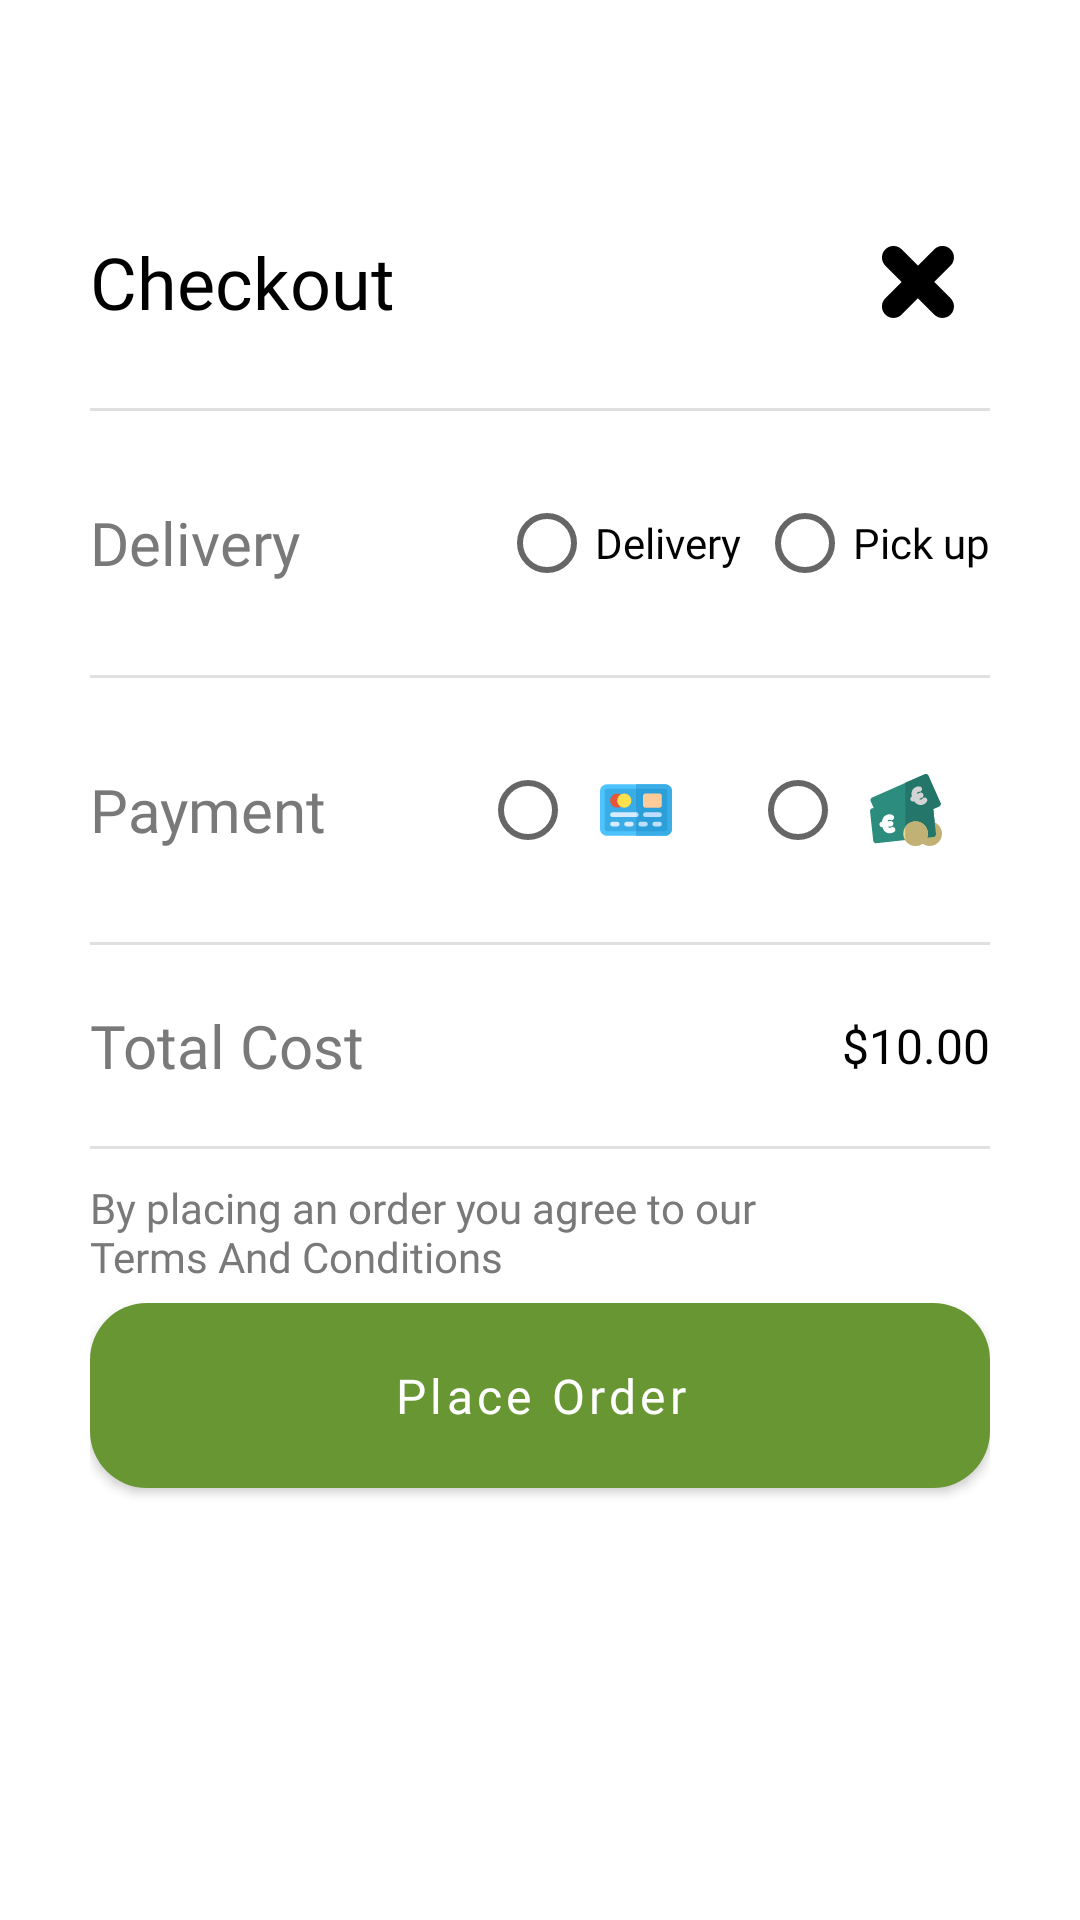

Screen size 1080 × 1920. Icon name, then its center in pixels as (x=x, y=y):
cancel: (x=918, y=282)
